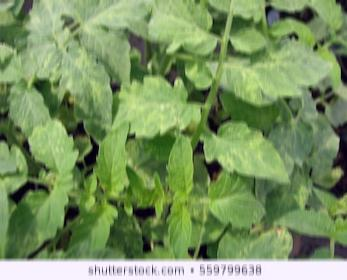Tomato leaf mosaic virus: (216, 37, 330, 104), (87, 73, 198, 137), (198, 121, 291, 186), (2, 181, 74, 256), (76, 19, 135, 90), (59, 50, 112, 127), (145, 3, 214, 58), (203, 175, 269, 231), (25, 115, 77, 186), (93, 120, 134, 197), (164, 130, 196, 199), (272, 204, 332, 240), (165, 201, 194, 259), (228, 29, 264, 55)
